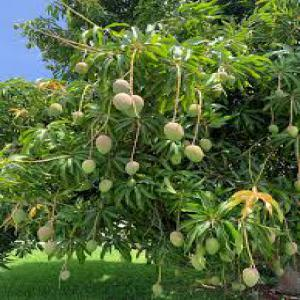Tree: (0, 2, 299, 293)
